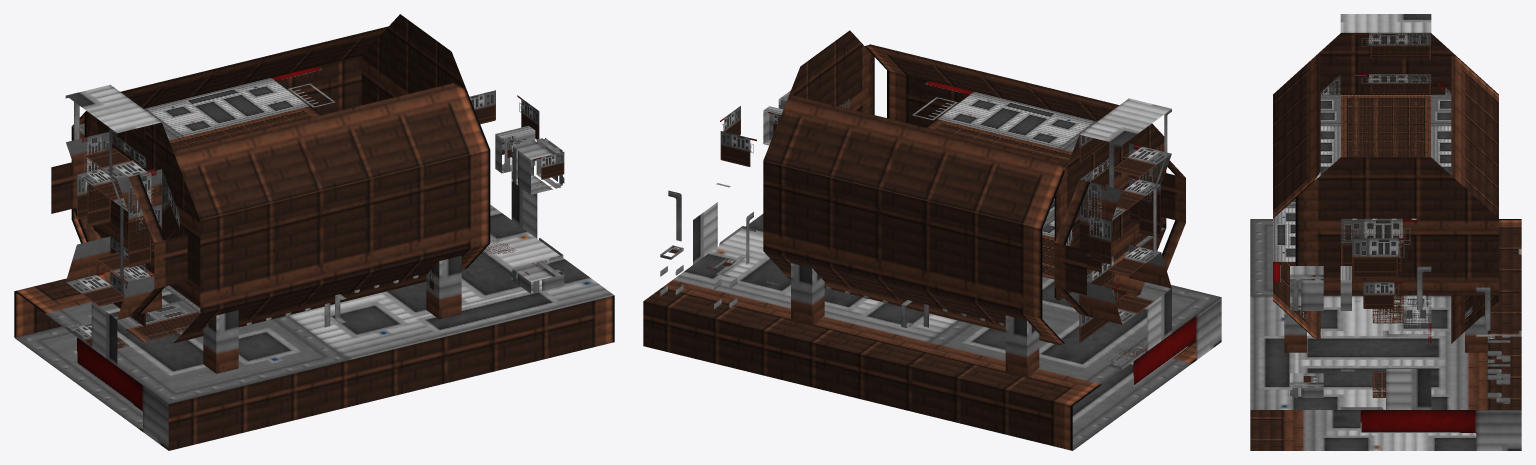
Rendered from boiler.obj.
3 renders of one model, left to right at view 1: azimuth 30°, elevation 25°; view 2: azimuth 150°, elevation 25°; view 3: azimuth 270°, elevation 25°, orthographic. The views are drawn at different scales.
Visible parts, largest first — view 1: base; view 2: base; view 3: base.
Boxes of the visible parts, x1=… form: base: x1=14, y1=14, x2=614, y2=450; base: x1=643, y1=30, x2=1221, y2=450; base: x1=1250, y1=14, x2=1521, y2=450.
Bounding box in the file's own units: 5 × 3 × 3.
